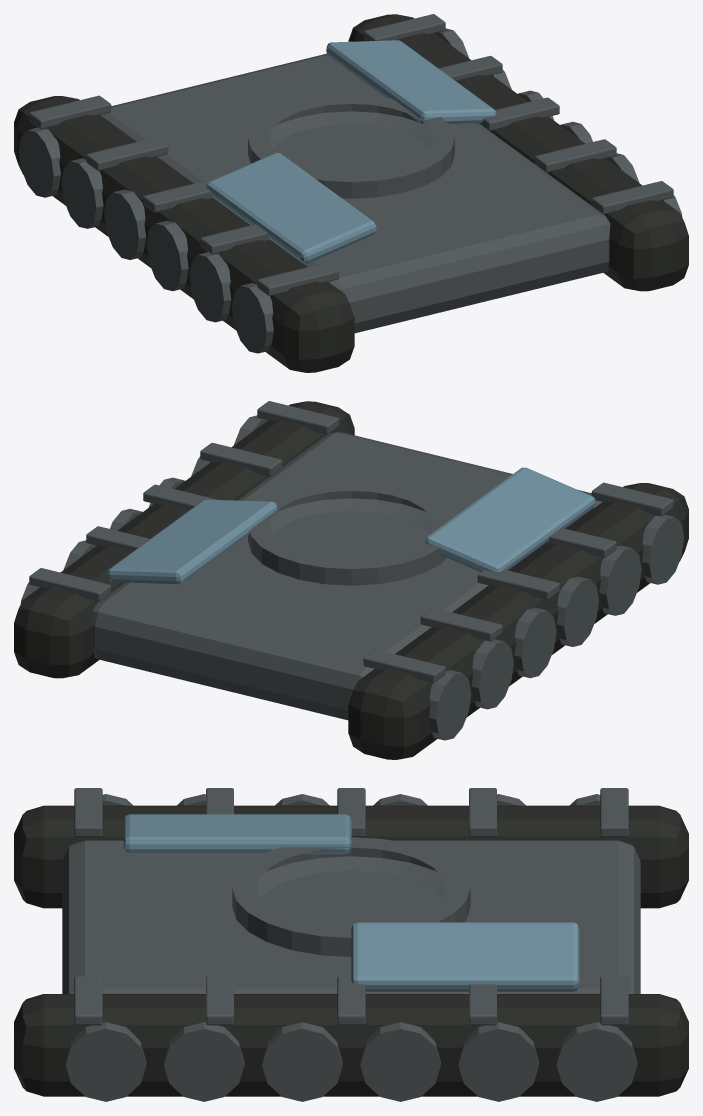
The model's file is wreck_hull_runtime.glb.
The picture shows the model from 3 angles, top to bottom: view 1: azimuth 30°, elevation 25°; view 2: azimuth 150°, elevation 25°; view 3: azimuth 270°, elevation 25°; orthographic projection. The views are drawn at different scales.
Visible parts, largest first — view 1: Crushed tank; view 2: Crushed tank; view 3: Crushed tank.
Boxes of the visible parts, <box> form: Crushed tank: <box>14,14,688,372</box>; Crushed tank: <box>14,401,688,759</box>; Crushed tank: <box>14,788,688,1101</box>.
Size of the model in its own units: 3.17 by 0.7247 by 3.85.
